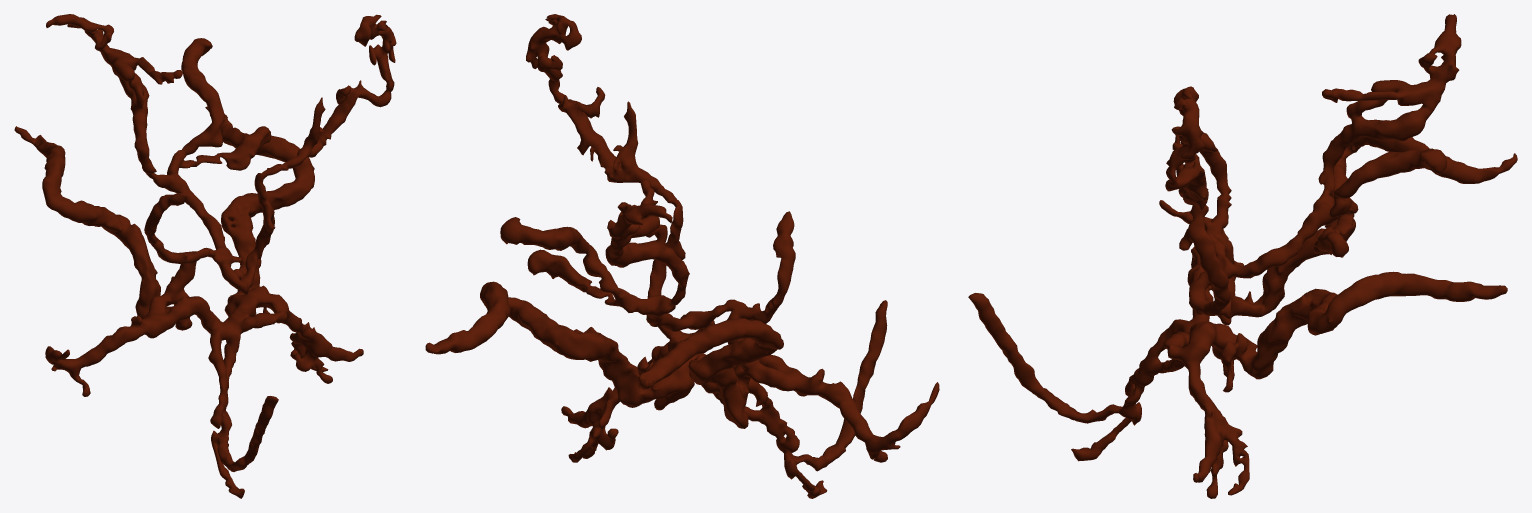
File: Arteries.obj
3 views of the same model, side by side, from view 1: azimuth 30°, elevation 25°; view 2: azimuth 150°, elevation 25°; view 3: azimuth 270°, elevation 25° (orthographic). The views are drawn at different scales.
Parts seen in each view (by area): view 1: grp1; view 2: grp1; view 3: grp1.
Part boxes in pixels (bbox=[...]): grp1: bbox=[14, 14, 396, 498]; grp1: bbox=[425, 14, 939, 498]; grp1: bbox=[968, 14, 1517, 498].
Bounding box in the file's own units: 87.09 × 98.69 × 104.
